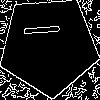I: (24, 21, 69, 38)
